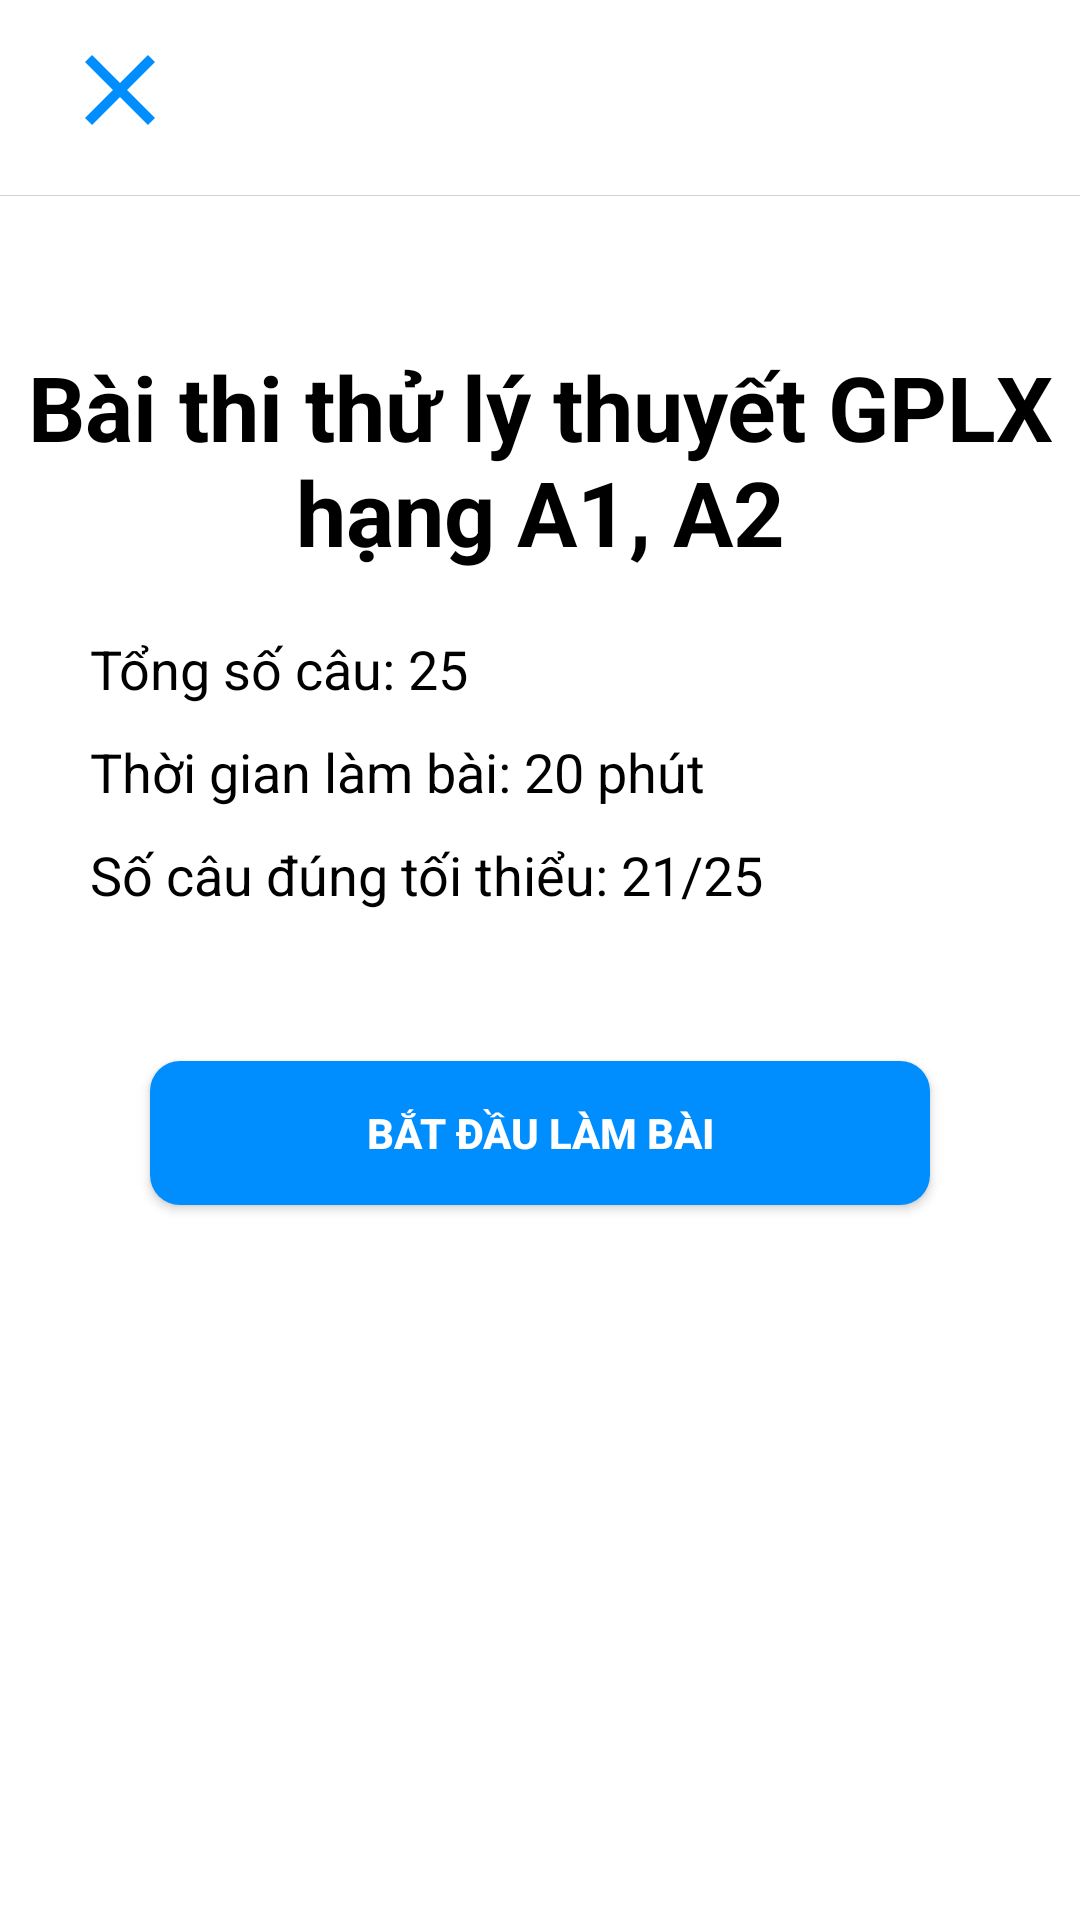

Named icons in this screenshot (1080x1920) and their centers, point (x, y):
clear: point (120, 90)
